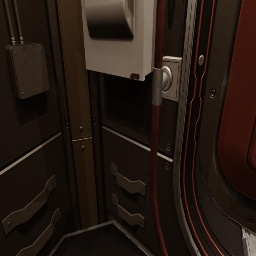SafetySwitchPanel ,: (81, 0, 157, 82)
